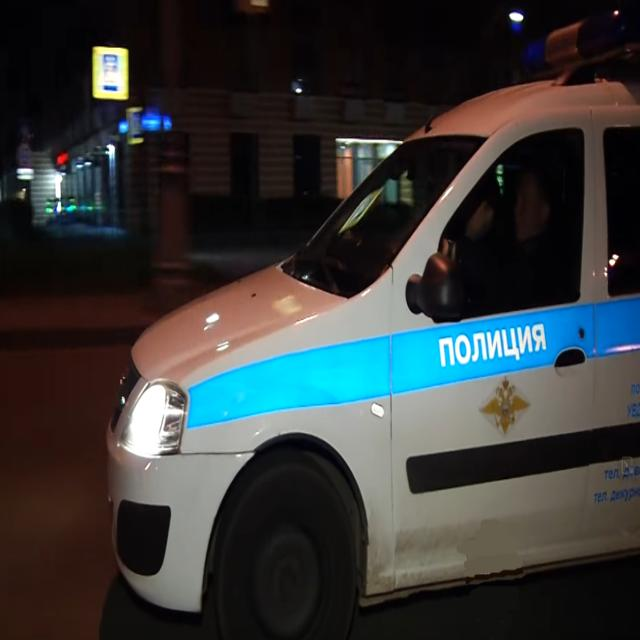police car: (106, 6, 640, 640)
